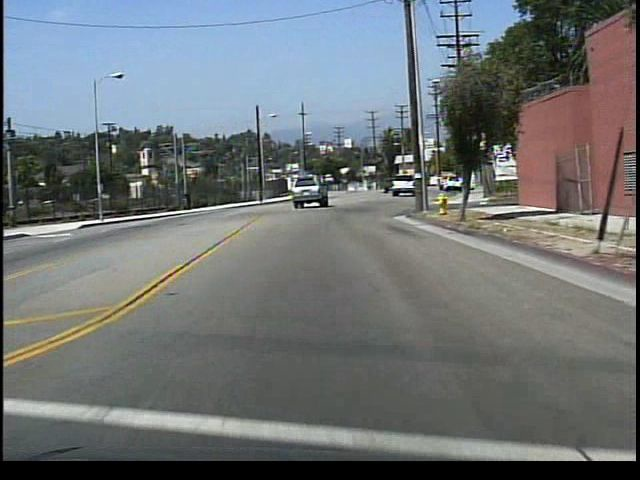person: (184, 187, 193, 211)
